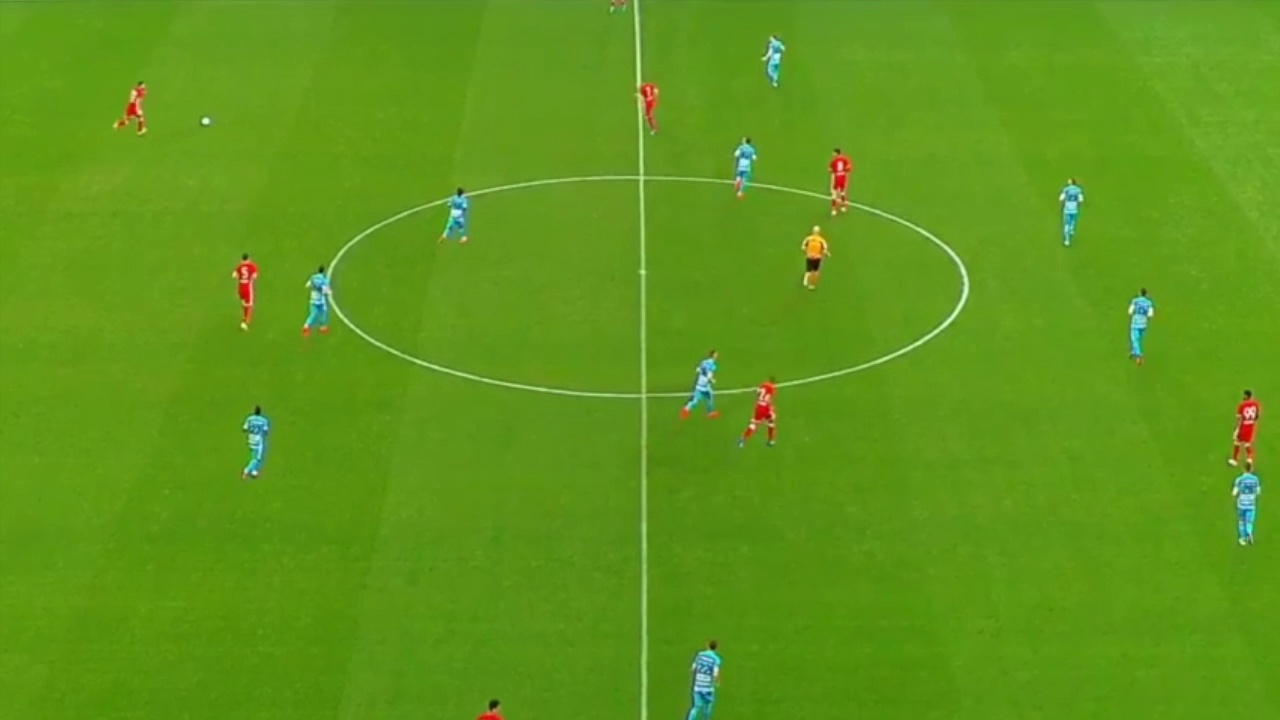ball: (199, 115, 212, 127)
person: (681, 640, 726, 720), (1225, 390, 1271, 461), (739, 376, 784, 448), (680, 345, 724, 416), (1053, 172, 1091, 247), (1228, 459, 1260, 544), (823, 147, 859, 222), (233, 246, 261, 333), (111, 77, 152, 136), (300, 265, 332, 331), (727, 136, 761, 198), (1128, 286, 1156, 359), (242, 404, 267, 480), (442, 186, 473, 243), (635, 77, 664, 137), (759, 31, 788, 90)
